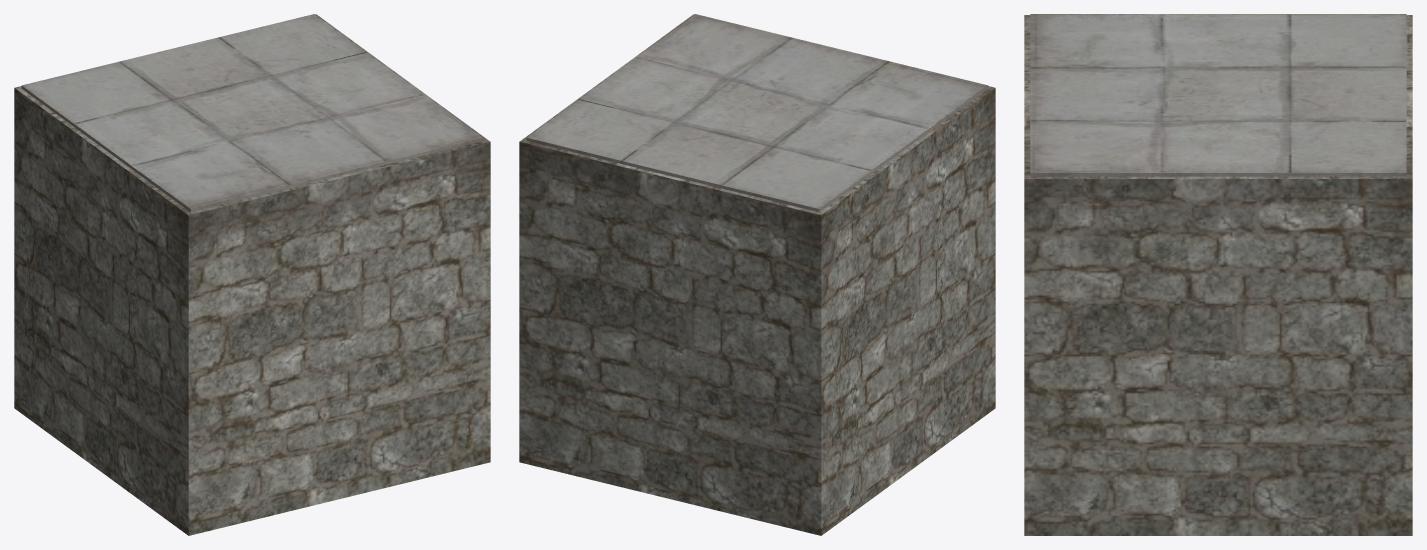
Rendered from stone_foundation_square_high_textured.glb.
The picture shows the model from 3 angles, left to right: view 1: azimuth 30°, elevation 25°; view 2: azimuth 150°, elevation 25°; view 3: azimuth 270°, elevation 25°; orthographic projection. The views are drawn at different scales.
Visible parts, largest first — view 1: Cube; view 2: Cube; view 3: Cube.
Part boxes in pixels (x1,y1,x2,y2): Cube: (14, 14, 490, 535); Cube: (519, 14, 995, 535); Cube: (1024, 14, 1412, 535).
Bounding box in the file's own units: 2 × 2.05 × 2.
Materials: 1 (1 with a texture image).
